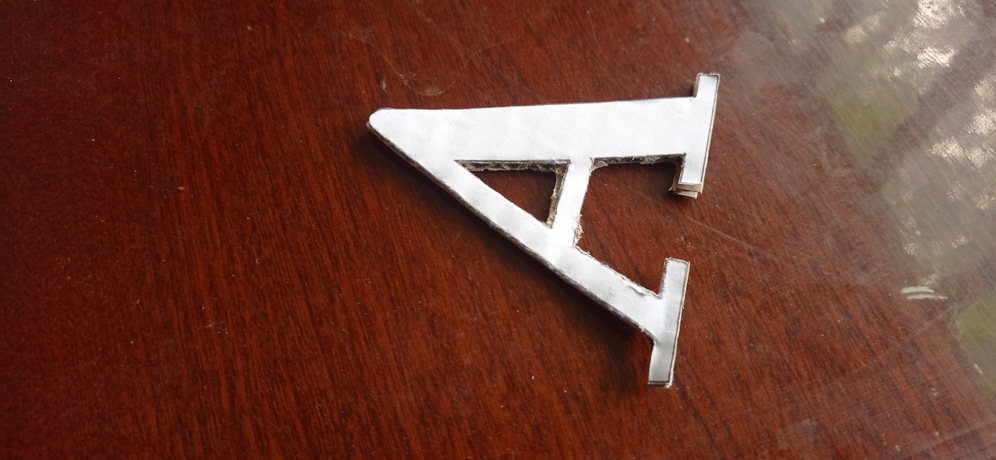a: (364, 72, 719, 389)
